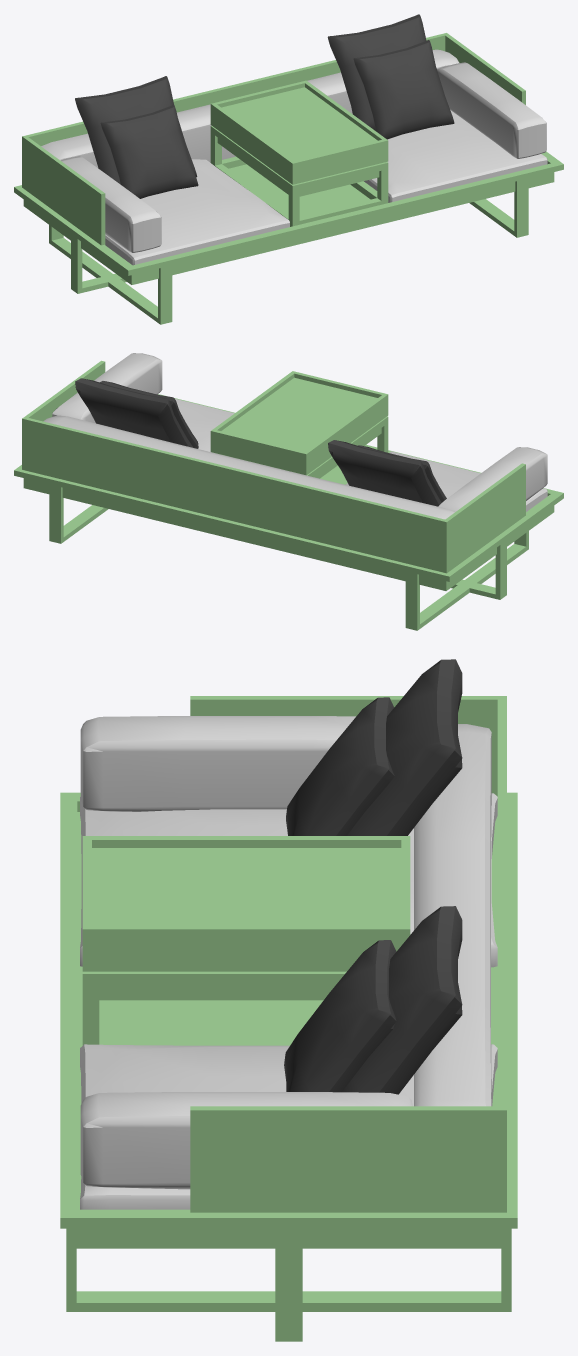
The model's file is DBSFF029.FBX.
3 views of the same model, one above another, from view 1: azimuth 30°, elevation 25°; view 2: azimuth 150°, elevation 25°; view 3: azimuth 270°, elevation 25° (orthographic). The views are drawn at different scales.
Visible parts, largest first — view 1: DBSFF029; view 2: DBSFF029; view 3: DBSFF029.
Boxes of the visible parts, x1,y1,x2,y2 form: DBSFF029: [14, 14, 563, 324]; DBSFF029: [14, 353, 563, 630]; DBSFF029: [60, 659, 517, 1341].
Size of the model in its own units: 220 by 100 by 74.
